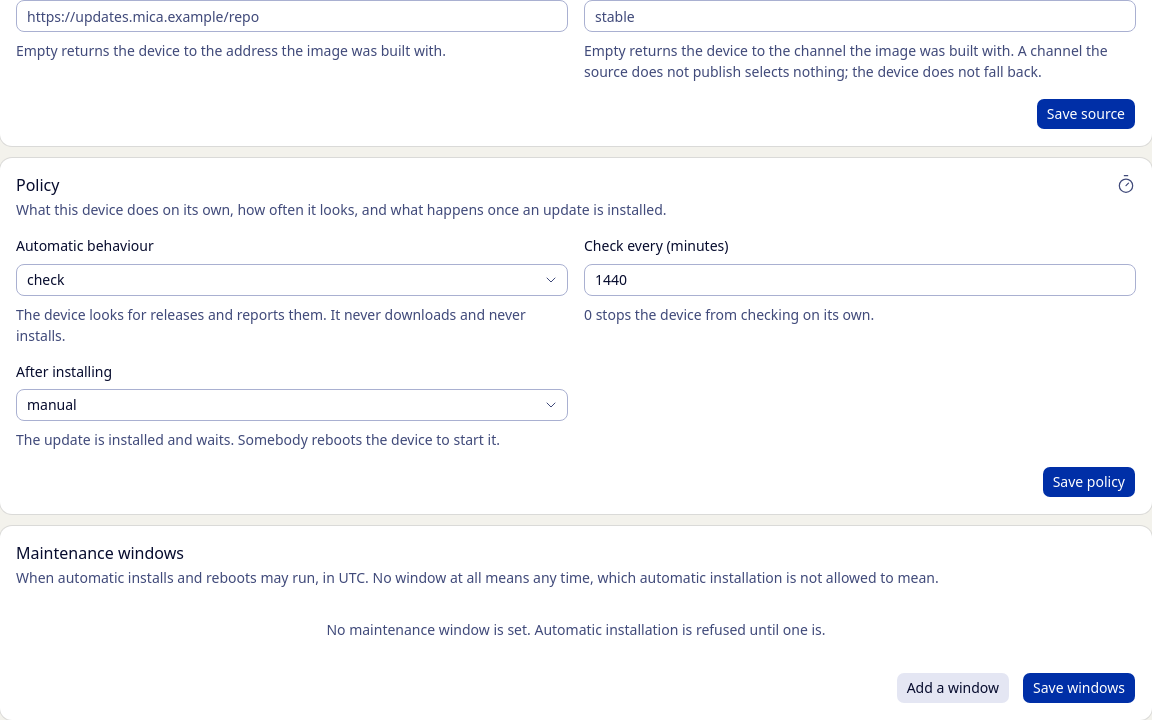
Test: the automatic update policy › reports a refusal from the device verbatim, naming the rule it broke
(page scrolled)
Click the button "Save policy": (1089, 482) [1042,466,1136,498]
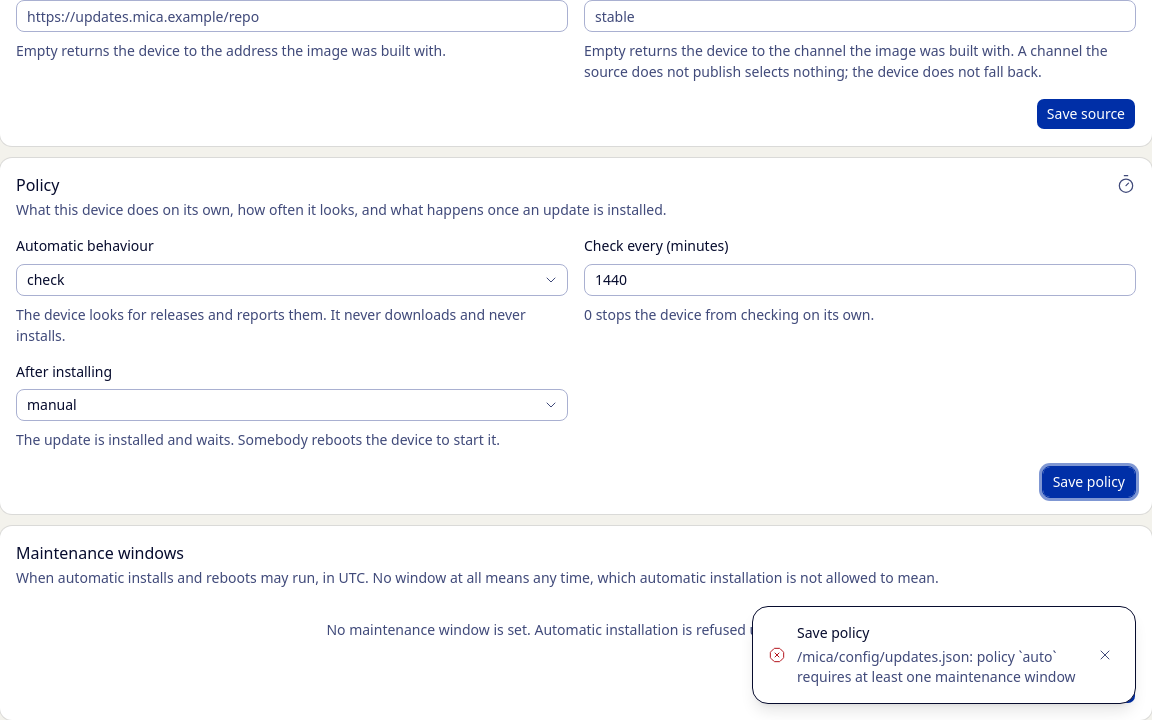
expect the text "requires at least one maintenance window" is shown: met, box [797,647,1076,686]
